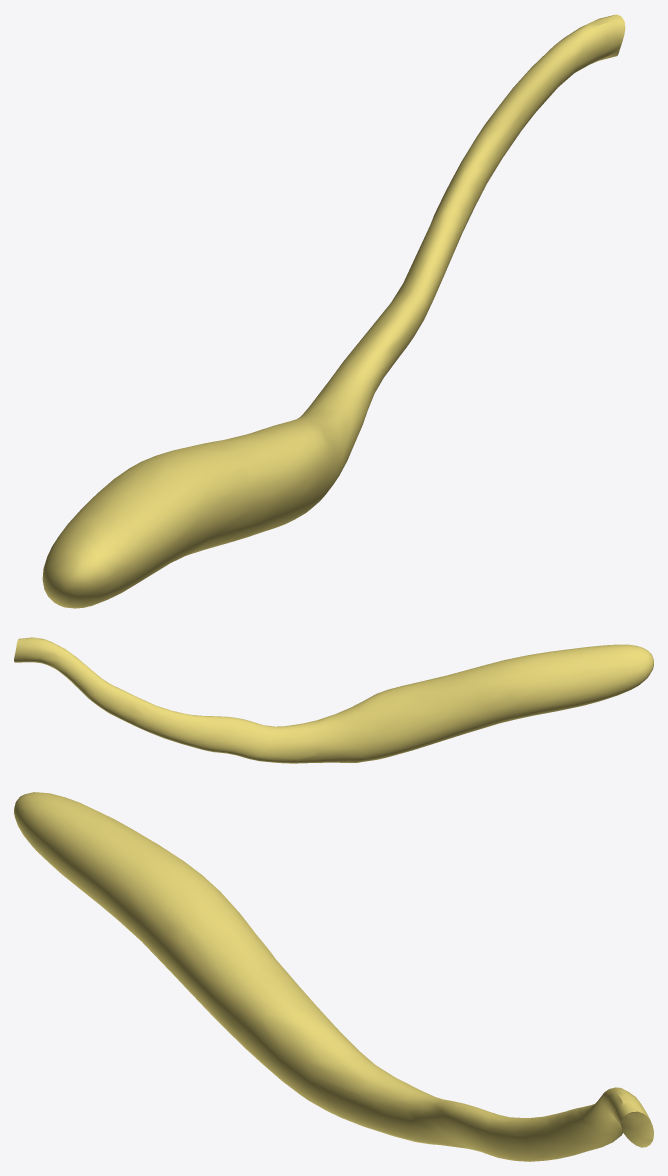
File: peduncle-of-flocculus-r.glb
The picture shows the model from 3 angles, top to bottom: view 1: azimuth 30°, elevation 25°; view 2: azimuth 150°, elevation 25°; view 3: azimuth 270°, elevation 25°; orthographic projection. The views are drawn at different scales.
Visible parts, largest first — view 1: Peduncle of flocculus.r; view 2: Peduncle of flocculus.r; view 3: Peduncle of flocculus.r.
Boxes of the visible parts, box(x1,y1,x2,y2) form: Peduncle of flocculus.r: box(42, 14, 625, 608); Peduncle of flocculus.r: box(14, 637, 653, 763); Peduncle of flocculus.r: box(14, 792, 653, 1161).
Size of the model in its own units: 0.0333 by 0.00868 by 0.0236.
